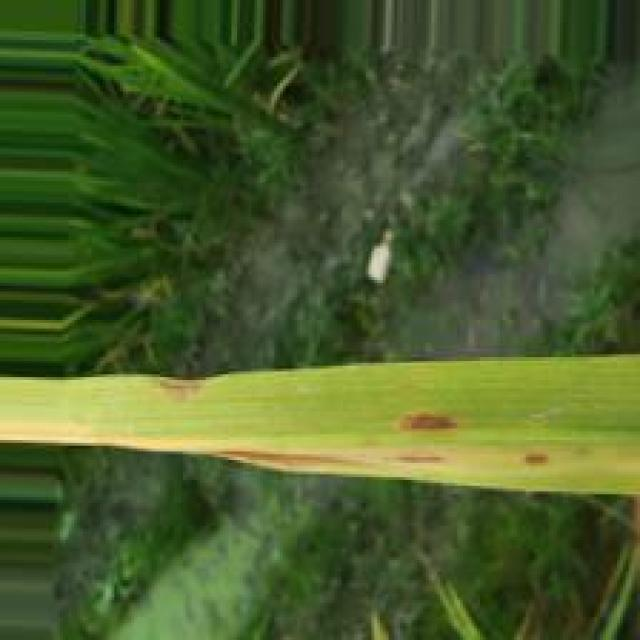Brown_Spot: (201, 446, 367, 464), (394, 406, 466, 435), (156, 378, 208, 403), (387, 450, 464, 466), (522, 453, 556, 470)
